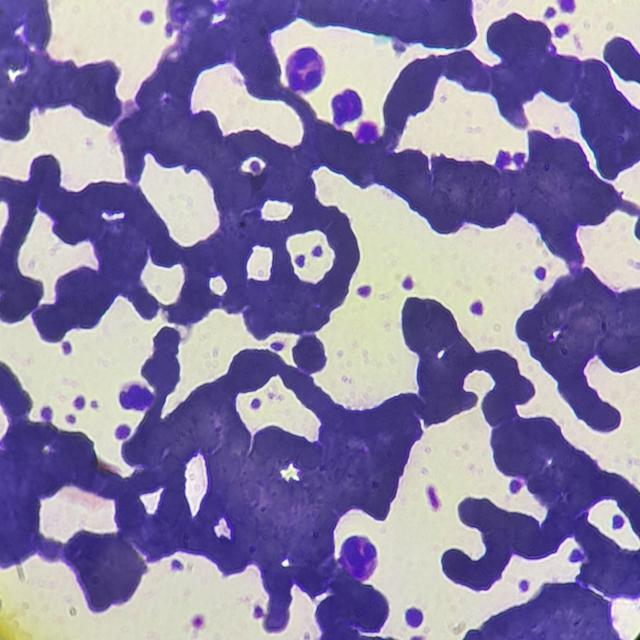Neutrofilo: (285, 45, 330, 98), (338, 533, 382, 584)
